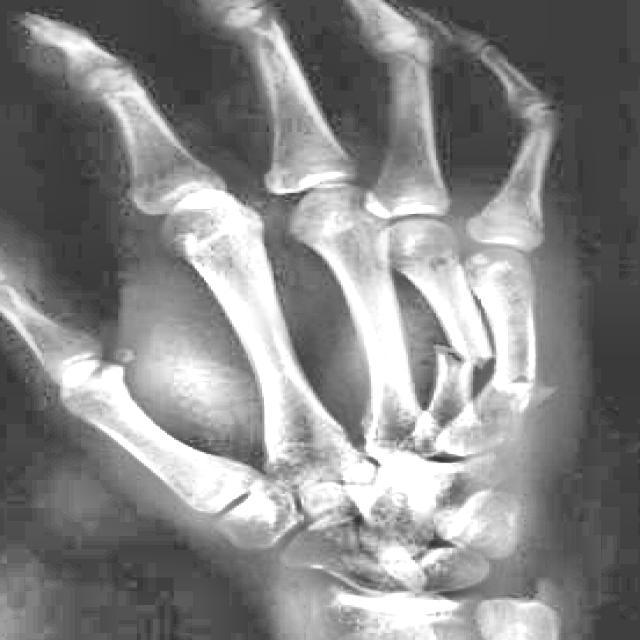fracture: (487, 374, 550, 406), (440, 346, 484, 376)
